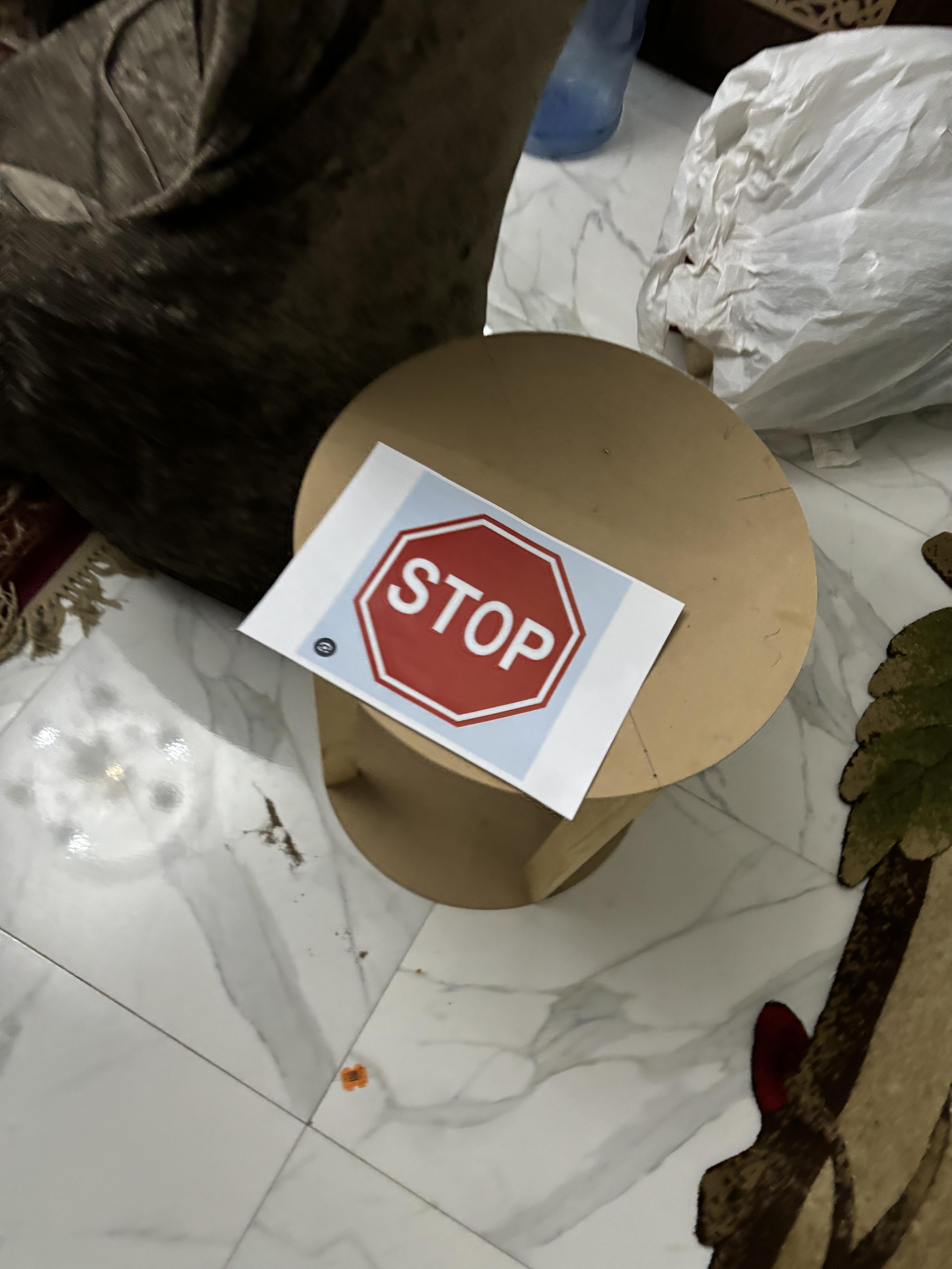Stop: (351, 505, 589, 737)
